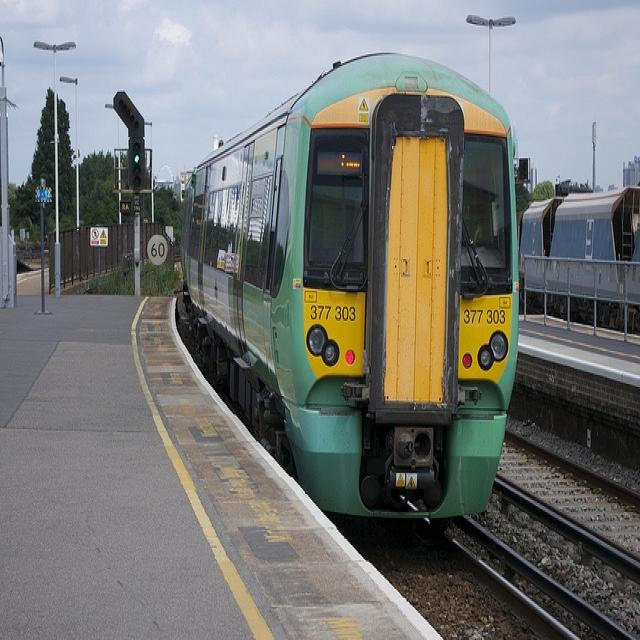pole: (50, 52, 66, 296), (130, 188, 144, 294), (38, 202, 48, 312)
